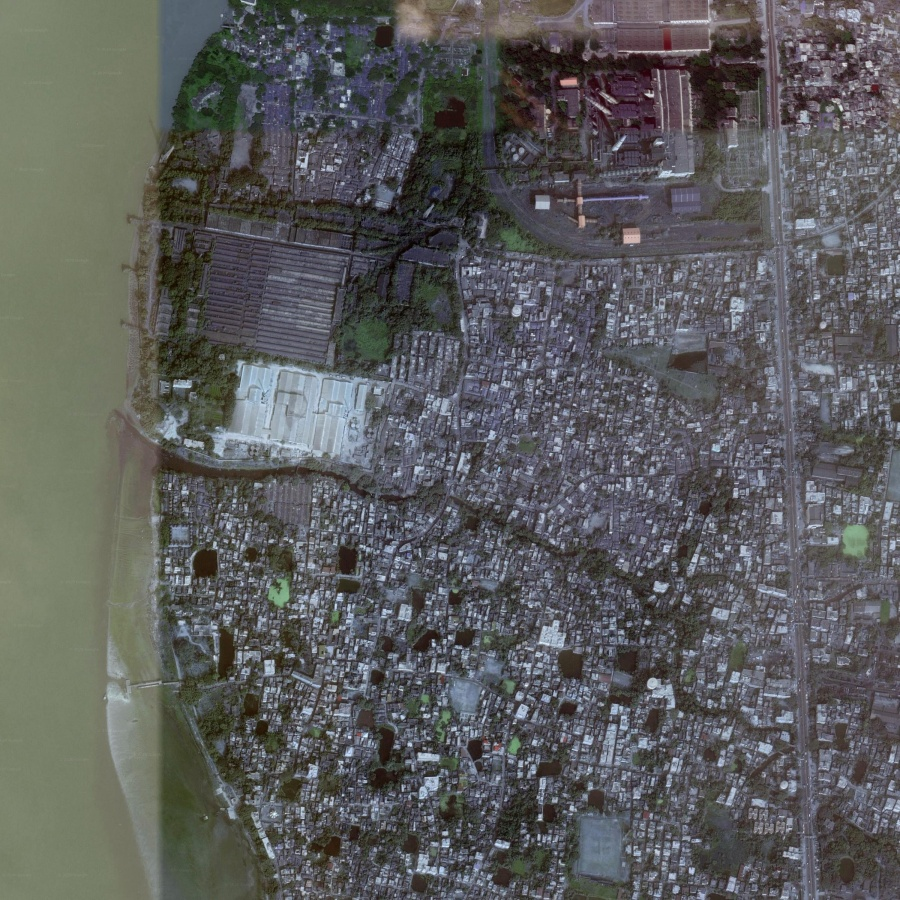PowerPlant: (489, 4, 734, 243)
